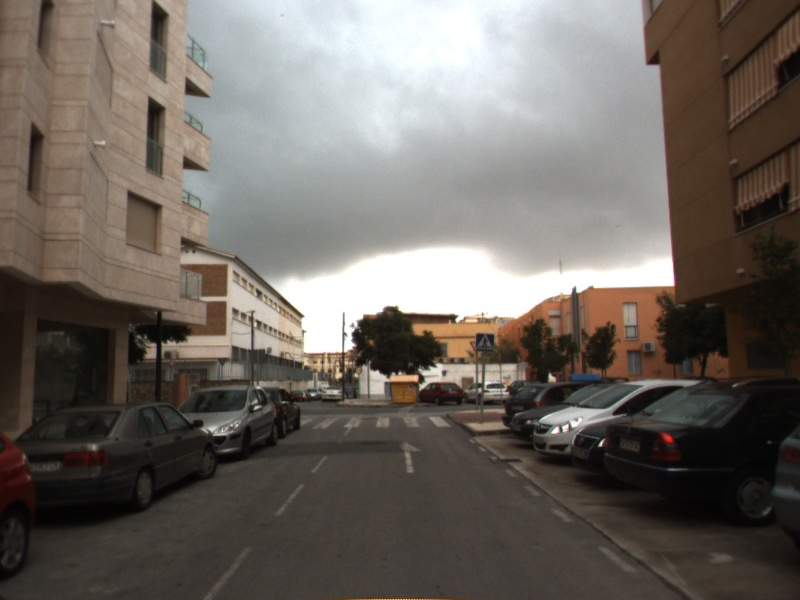STRAIGHT: (397, 440, 426, 474)
